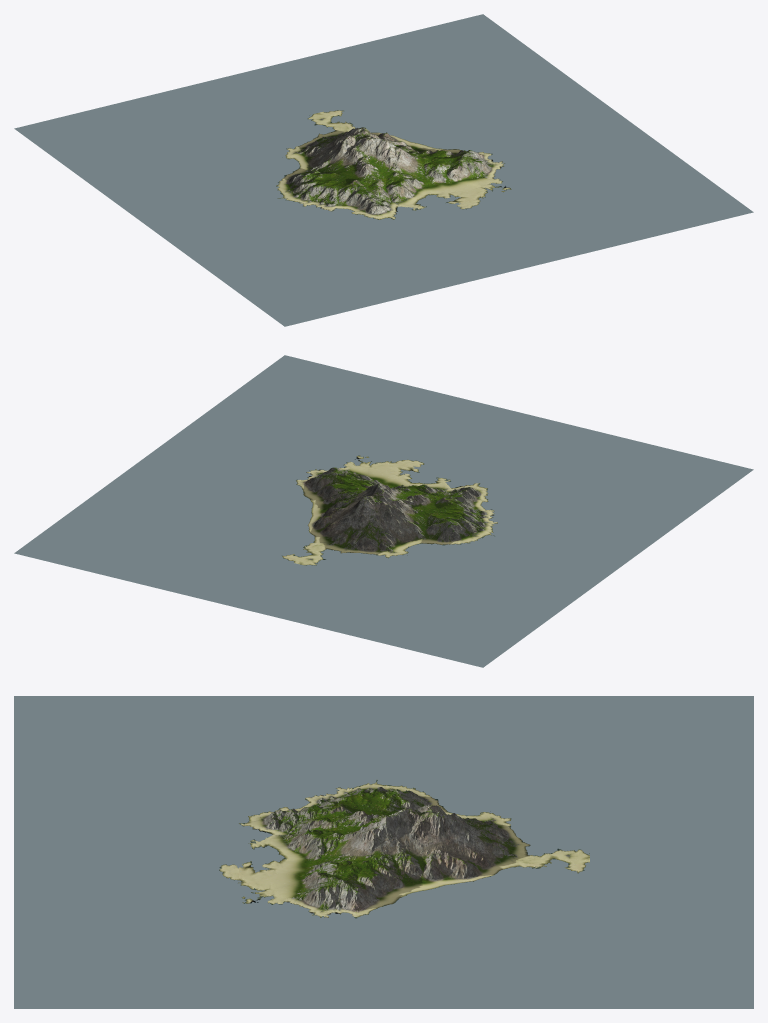
Rendered from green_island.glb.
The picture shows the model from 3 angles, top to bottom: view 1: azimuth 30°, elevation 25°; view 2: azimuth 150°, elevation 25°; view 3: azimuth 270°, elevation 25°; orthographic projection. The views are drawn at different scales.
Parts seen in each view (by area): view 1: island (×2); view 2: island (×2); view 3: island (×2).
Part boxes in pixels (x1=…): island (×2): x1=14, y1=14, x2=753, y2=326; island (×2): x1=14, y1=355, x2=753, y2=667; island (×2): x1=14, y1=696, x2=753, y2=1008.
Size of the model in its own units: 2 by 0.1207 by 2.
2 materials, 2 textured.
